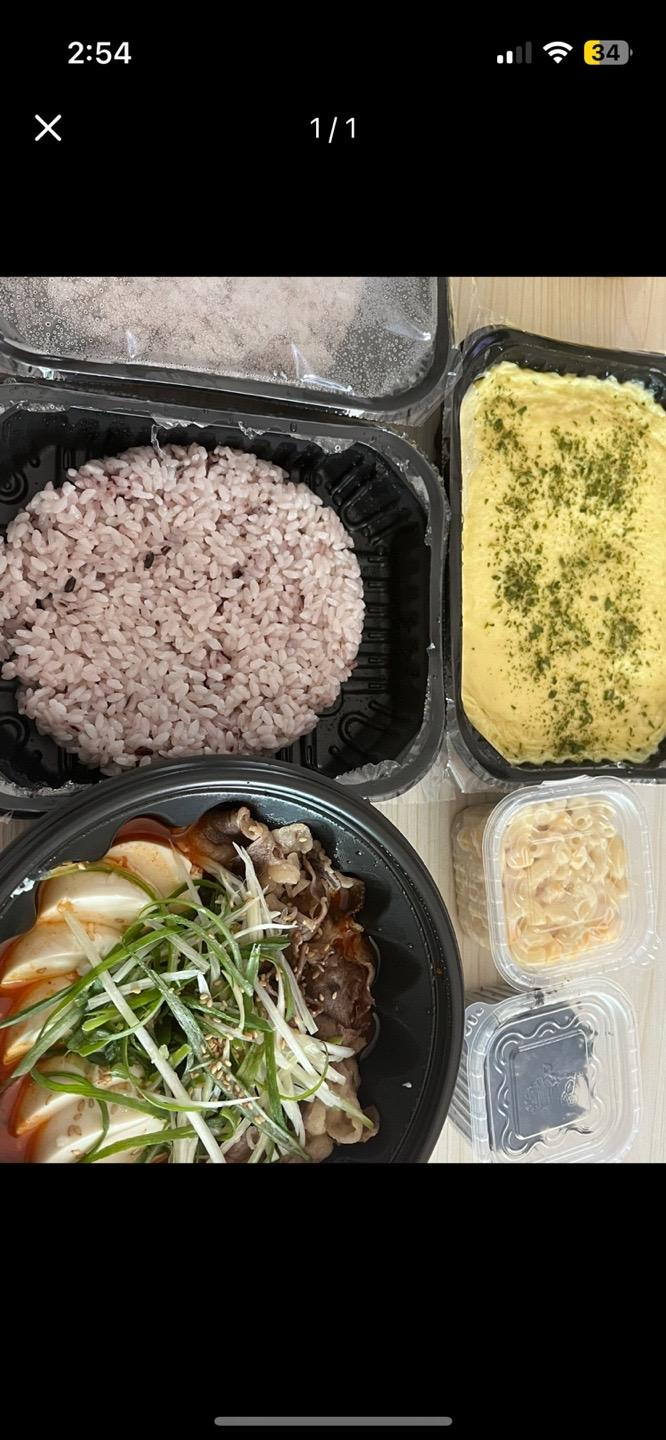Lunch Box: (0, 377, 447, 817), (0, 757, 463, 1163), (447, 327, 665, 783), (0, 277, 449, 420), (452, 780, 656, 987), (450, 981, 640, 1162)
